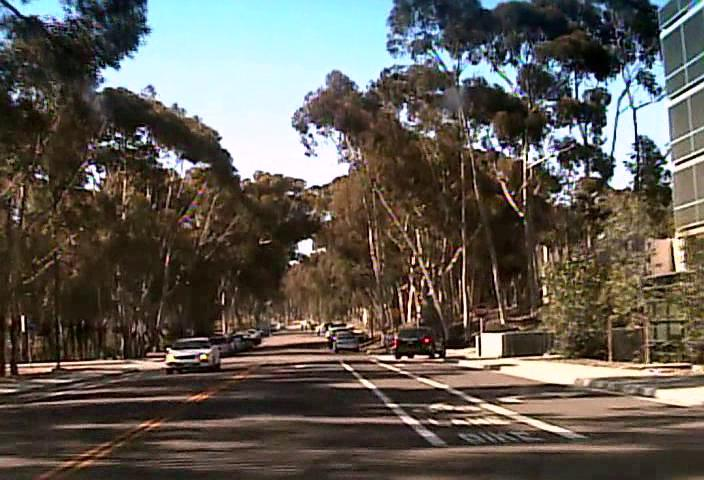stop: (473, 303, 489, 319)
